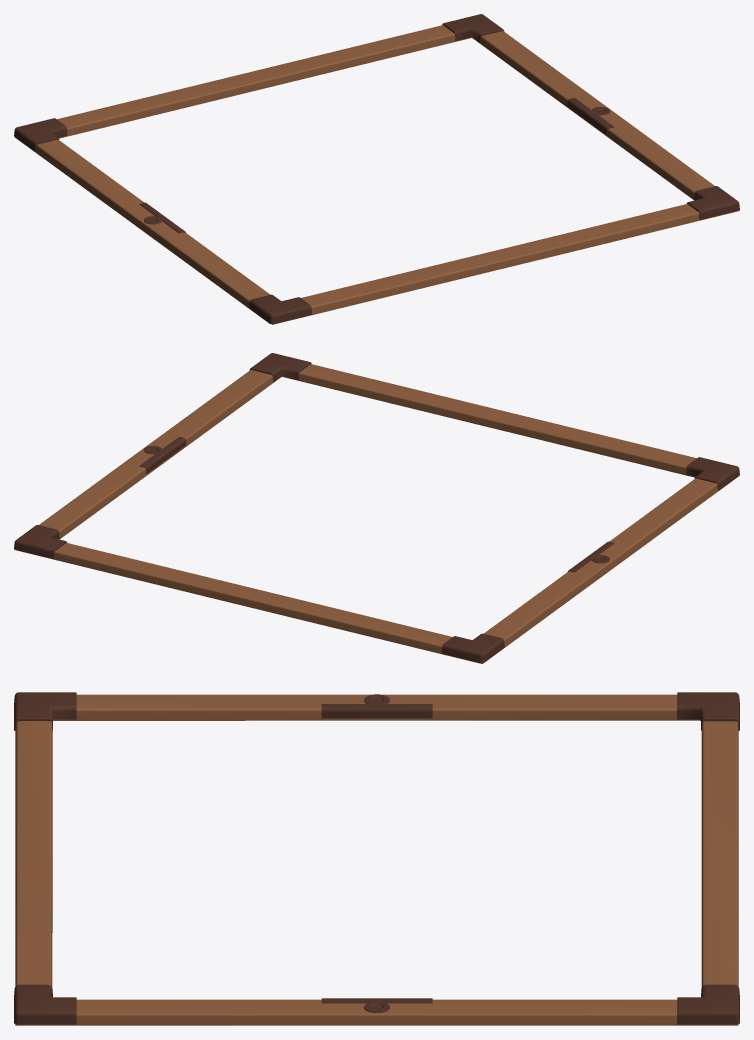
File: mjz_bian.fbx
3 renders of one model, top to bottom at view 1: azimuth 30°, elevation 25°; view 2: azimuth 150°, elevation 25°; view 3: azimuth 270°, elevation 25°, orthographic. The views are drawn at different scales.
Visible parts, largest first — view 1: Rectangle03, 对象005; view 2: Rectangle03, 对象005; view 3: Rectangle03, 对象005.
Boxes of the visible parts, <box> form: Rectangle03: <box>15,25,739,324</box>; 对象005: <box>14,14,739,324</box>; Rectangle03: <box>14,364,738,663</box>; 对象005: <box>14,353,739,662</box>; Rectangle03: <box>15,694,738,1025</box>; 对象005: <box>14,692,739,1024</box>.
Bounding box in the file's own units: 143 × 3.03 × 136.
